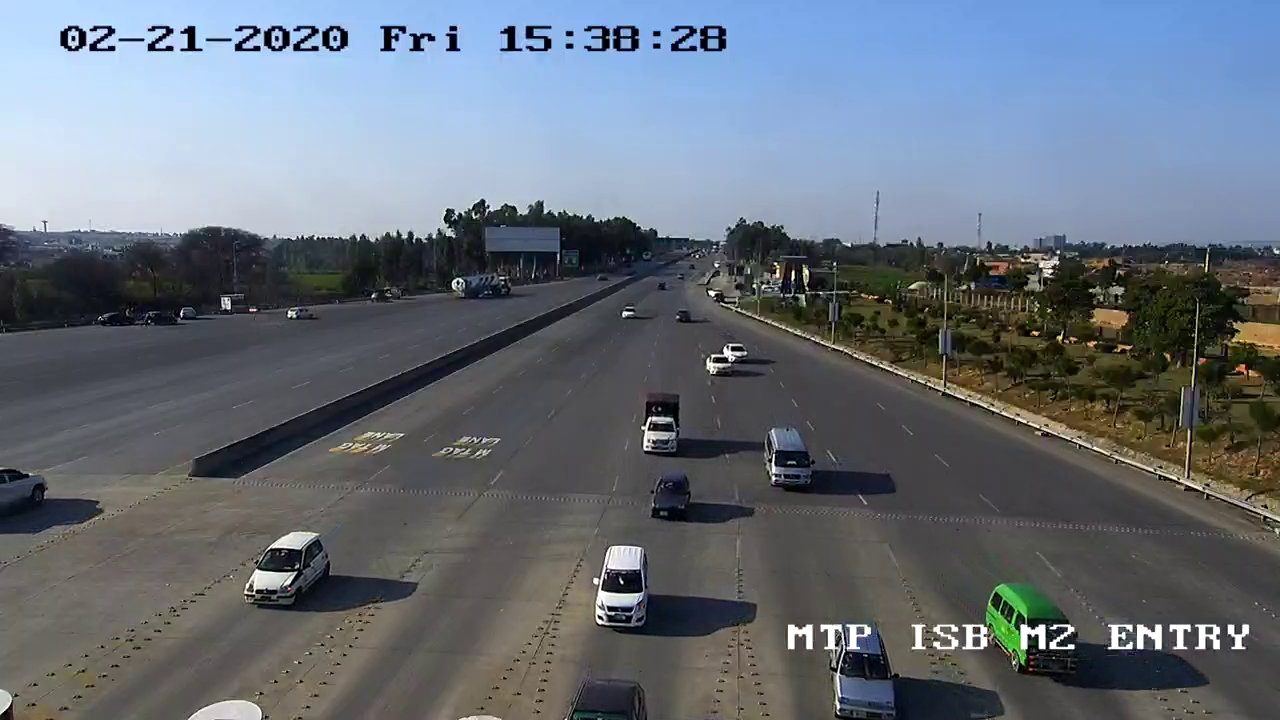f1: (234, 523, 342, 620), (586, 534, 657, 640), (637, 470, 703, 528)
f2: (755, 421, 835, 501), (626, 388, 694, 461)
